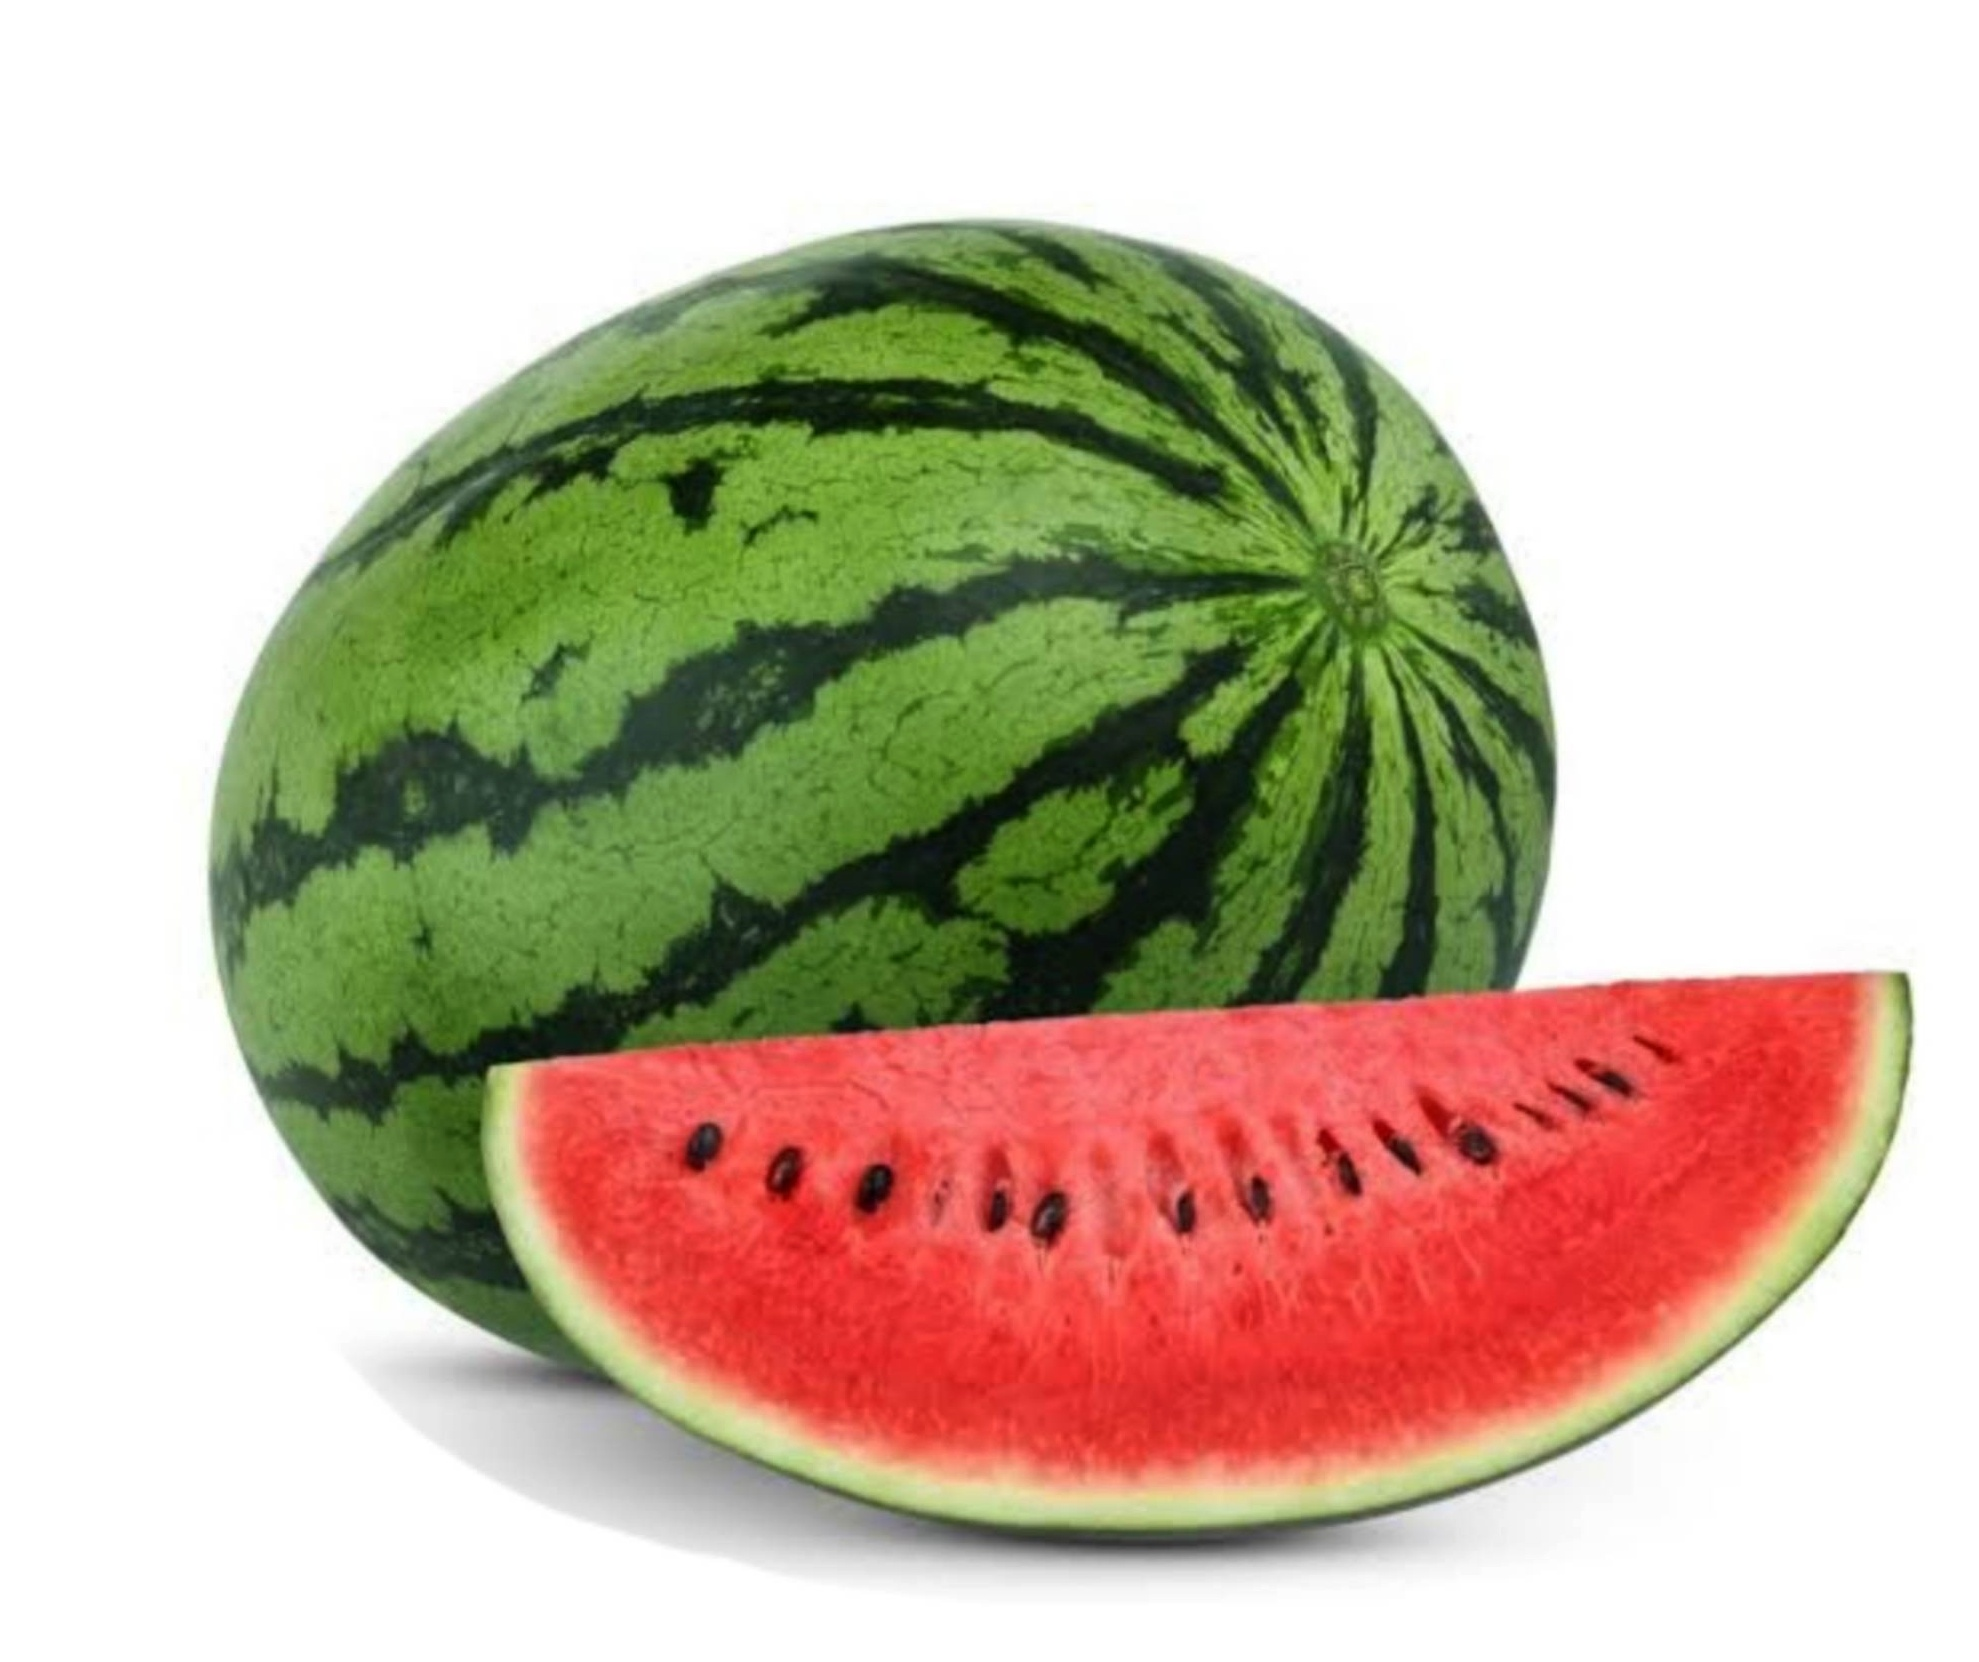watermelon: (160, 221, 1652, 1411)
